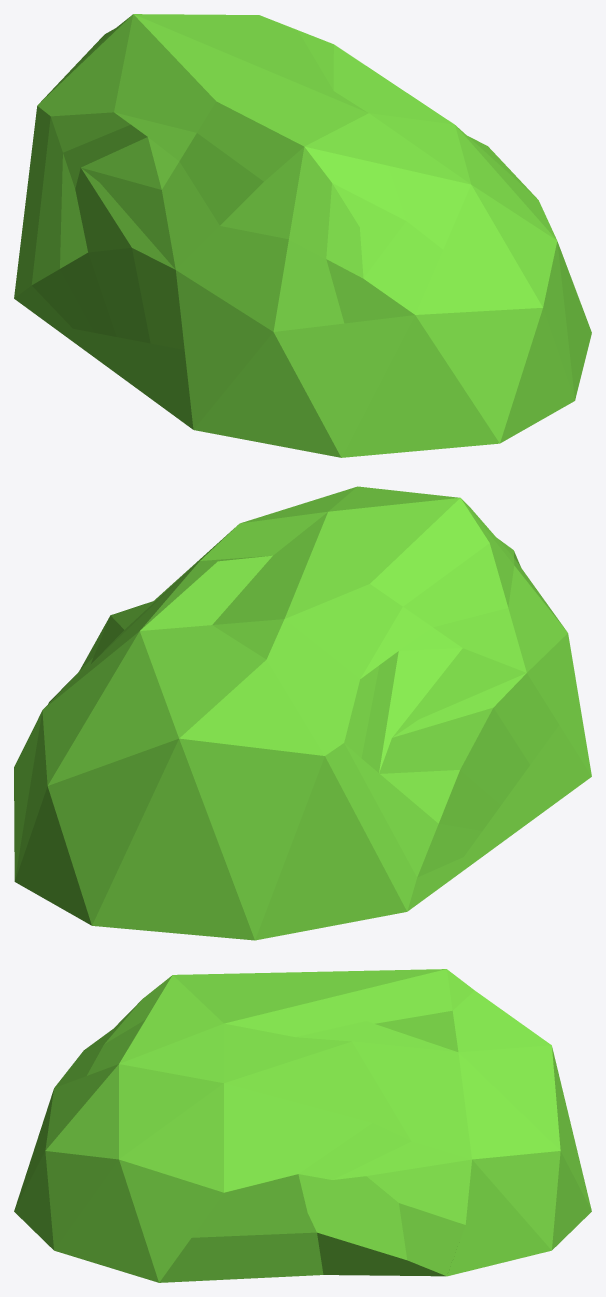
File: Bush01.fbx
The picture shows the model from 3 angles, top to bottom: view 1: azimuth 30°, elevation 25°; view 2: azimuth 150°, elevation 25°; view 3: azimuth 270°, elevation 25°; orthographic projection. The views are drawn at different scales.
Visible parts, largest first — view 1: Icosphere; view 2: Icosphere; view 3: Icosphere.
Part boxes in pixels (bbox=[...]): Icosphere: bbox=[14, 14, 591, 457]; Icosphere: bbox=[14, 486, 591, 940]; Icosphere: bbox=[14, 969, 591, 1282].
Size of the model in its own units: 260 by 160 by 408.
